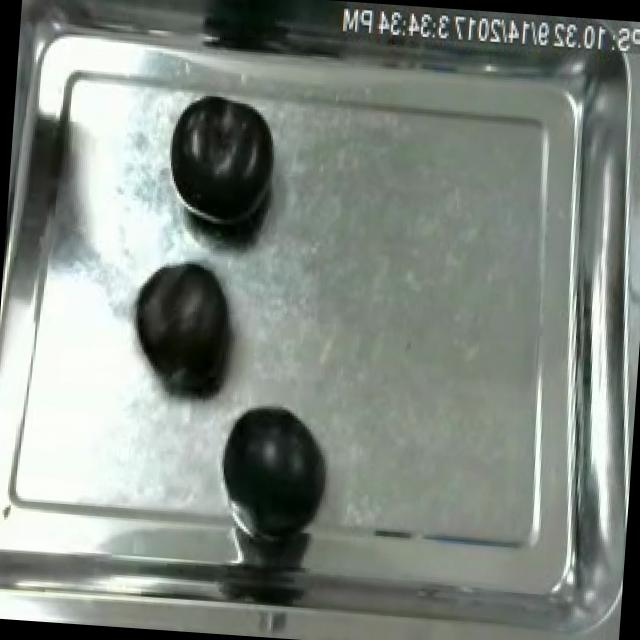Fruit: (157, 88, 286, 238), (211, 395, 336, 537), (126, 252, 244, 401)
